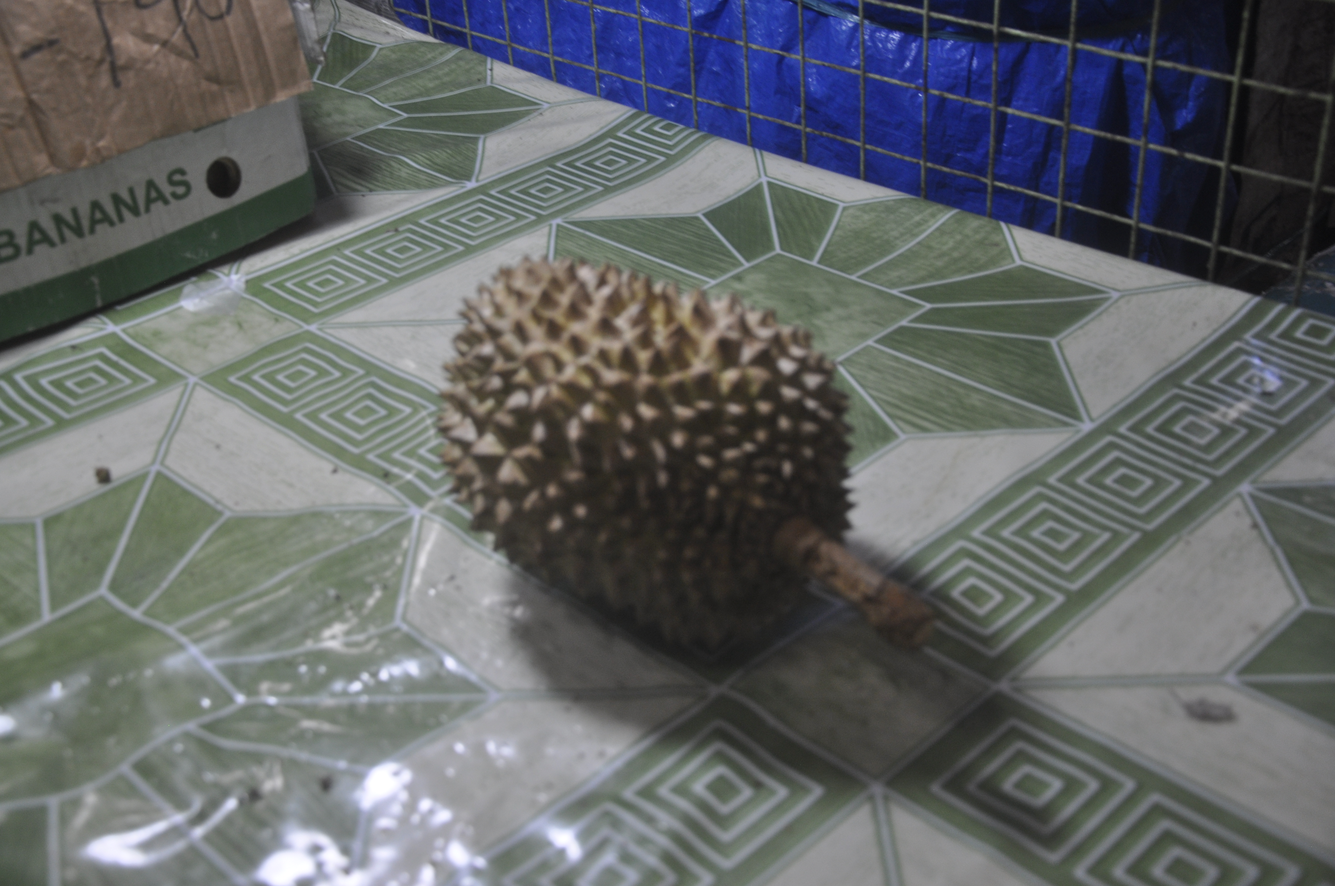mature: (438, 259, 935, 650)
